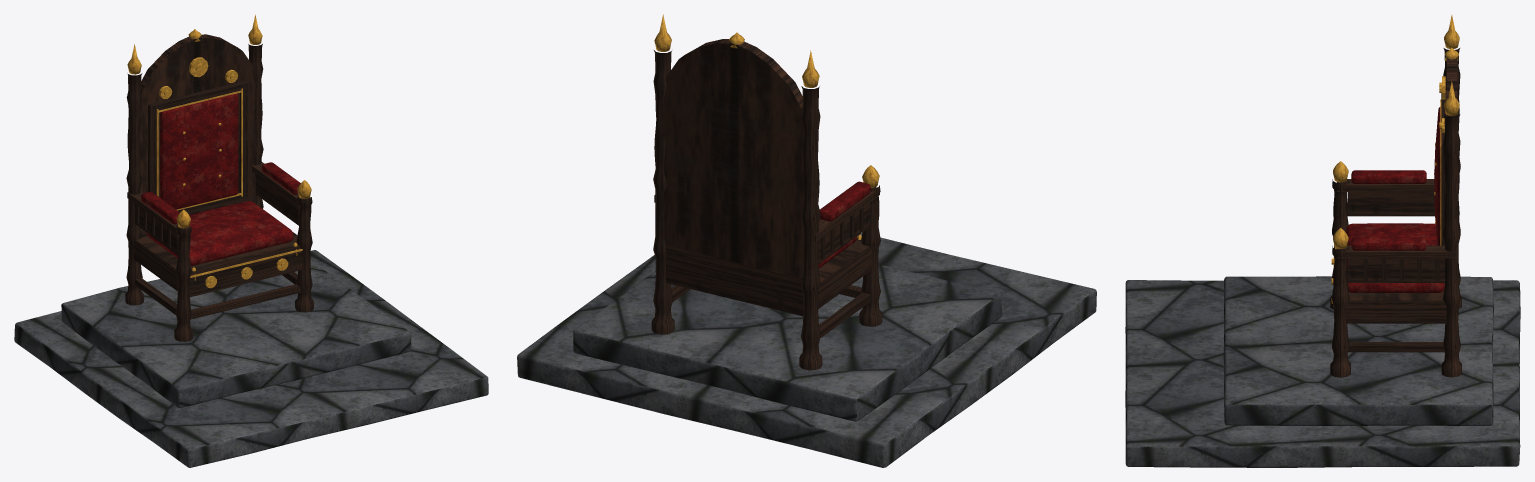
Rendered from throne.glb.
3 renders of one model, left to right at view 1: azimuth 30°, elevation 25°; view 2: azimuth 150°, elevation 25°; view 3: azimuth 270°, elevation 25°, orthographic. The views are drawn at different scales.
Parts seen in each view (by area): view 1: throne; view 2: throne; view 3: throne.
Part boxes in pixels (<box>): throne: <box>14,14,488,467</box>; throne: <box>517,14,1096,467</box>; throne: <box>1125,14,1520,467</box>.
Bounding box in the file's own units: 2.2 × 2.08 × 2.2.
Materials: 4 (4 with a texture image).
